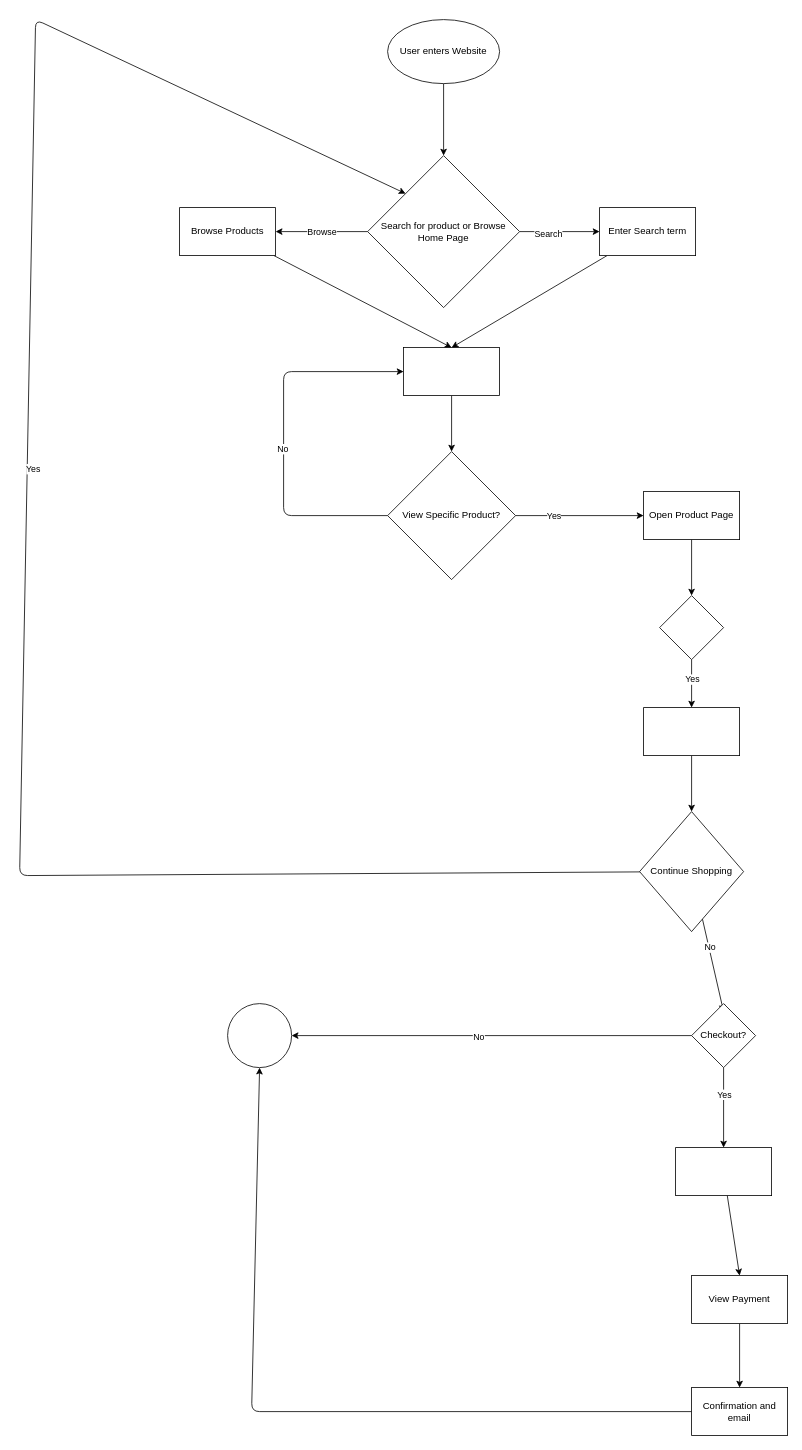
Some shapes in this 802 by 1450 pixel diagram are drawn without their labels. The centre of each missing label's shape, as x and y in pixels:
Add to Cart?: pixel 691 627
Cart confirmation: pixel 691 731
Leave Site: pixel 259 1035
View Cart: pixel 723 1171
View Product Listings: pixel 451 371
